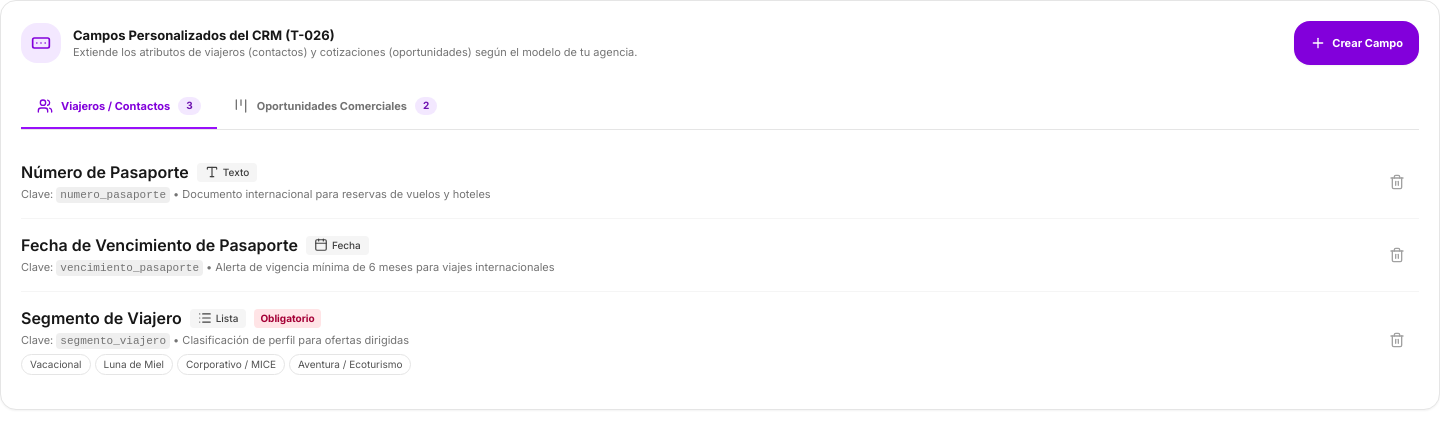
BloqueCamposPersonalizados (T-026) › permite cambiar a la pestaña de Oportunidades
What coordinates should you click on to do the following:
click the button "Oportunidades Comerciales 2"
I would click on:
 (335, 107)
Its box is [217, 85, 453, 129].
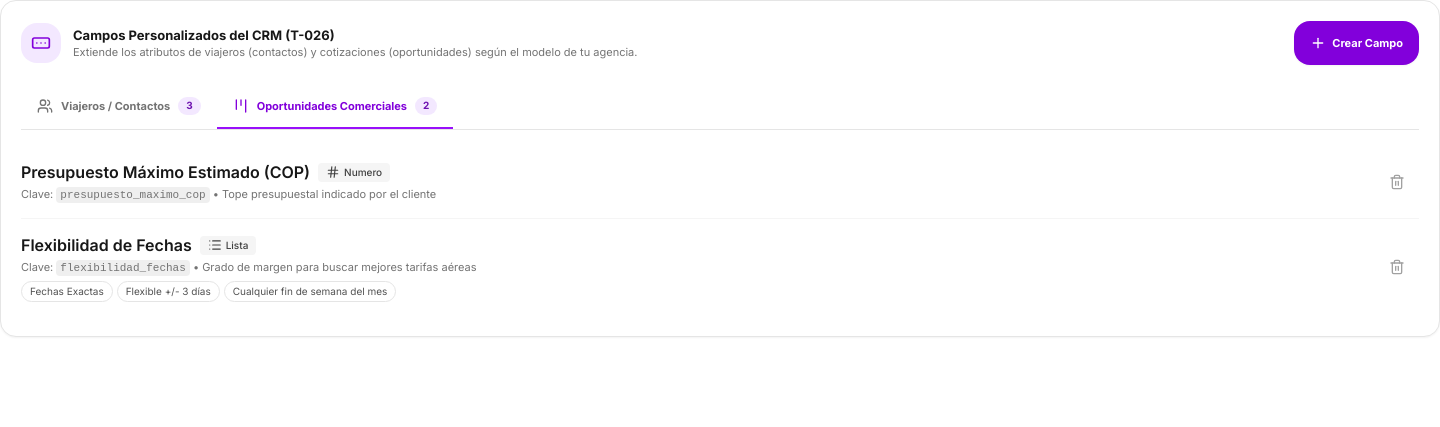
expect the text "Presupuesto Máximo Estimado (COP)" is shown: met, box [21, 160, 310, 184]
expect the text "Flexibilidad de Fechas" is shown: met, box [21, 233, 192, 257]
